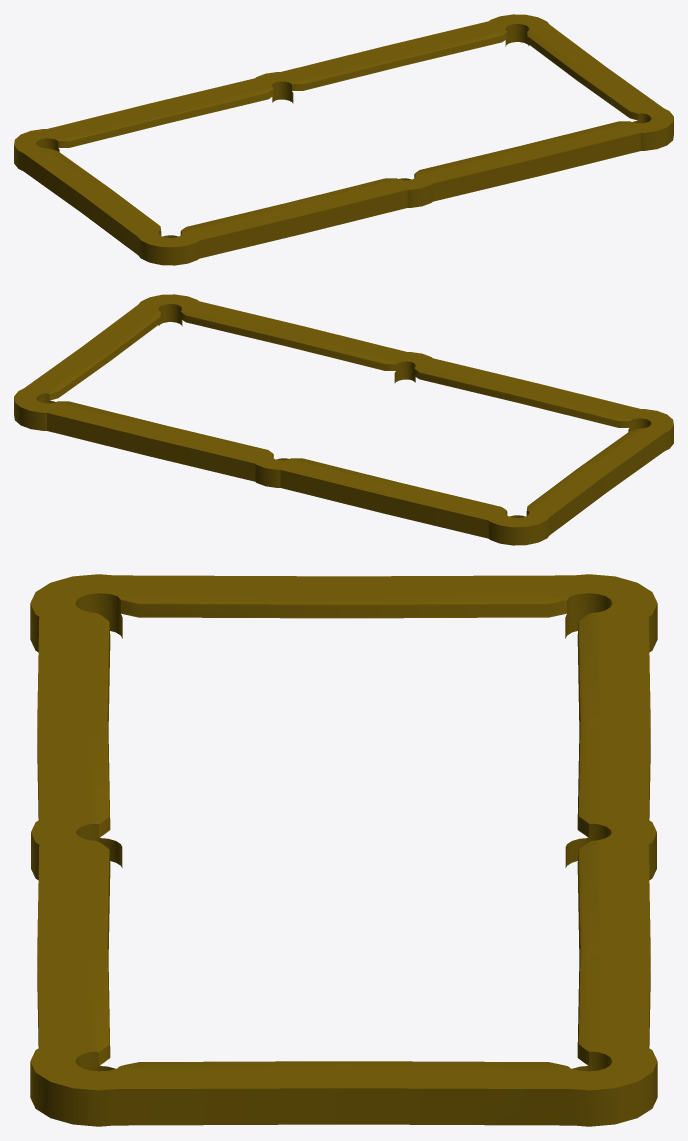
Rendered from rim.glb.
The picture shows the model from 3 angles, top to bottom: view 1: azimuth 30°, elevation 25°; view 2: azimuth 150°, elevation 25°; view 3: azimuth 270°, elevation 25°; orthographic projection. The views are drawn at different scales.
Visible parts, largest first — view 1: Table; view 2: Table; view 3: Table.
Boxes of the visible parts, x1=… form: Table: x1=14, y1=14, x2=673, y2=265; Table: x1=14, y1=294, x2=673, y2=545; Table: x1=30, y1=574, x2=657, y2=1126.
Bounding box in the file's own units: 3.05 × 0.1003 × 1.57.
